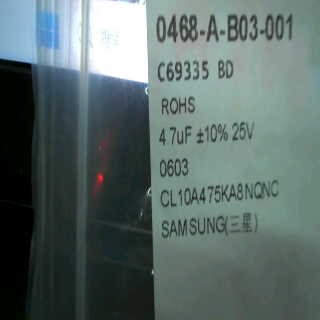4.7uF: (154, 121, 194, 157)
